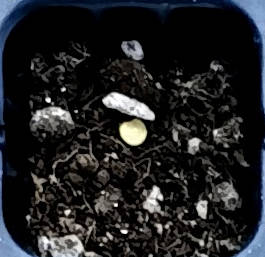pepper seed: (44, 43, 193, 191)
